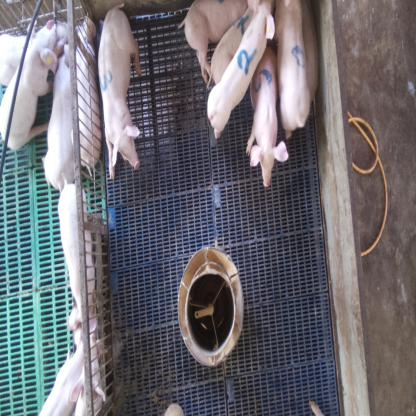2: (236, 47, 256, 74)
3: (98, 72, 113, 92)
5: (253, 70, 273, 94)
7: (233, 13, 249, 36)
N-A: (291, 43, 306, 68)
